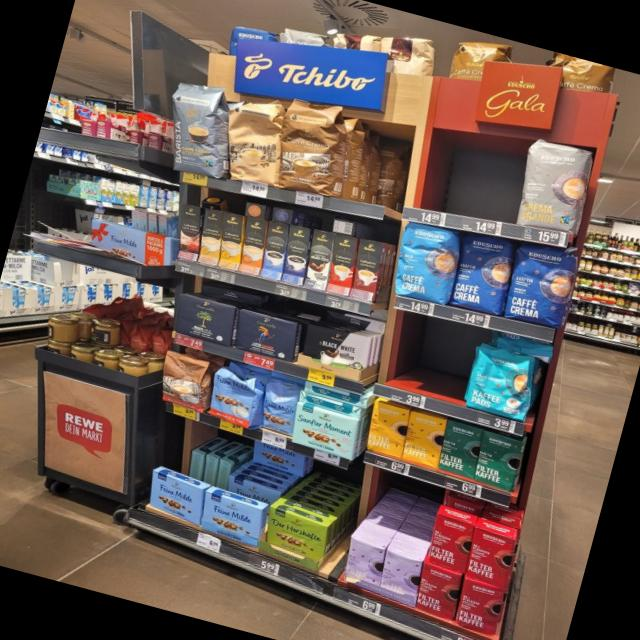BM Gemahlen: (174, 292, 237, 348)
BW Gemahlen: (299, 322, 370, 381)
Barista CC: (169, 79, 229, 179)
CC Mild: (227, 95, 282, 188)
CC Vollmundig: (159, 347, 213, 413)
CC Vollmundig 36 Pads: (276, 97, 345, 198)
Empty Shelf: (341, 107, 411, 208)
FM 36 Pads: (205, 362, 264, 431)
FM Bohne: (259, 376, 301, 437)
FM Gemahlen: (198, 489, 263, 547), (147, 469, 205, 528)
Herzhatfe Mundig: (265, 505, 327, 563)
LG Gemahlen: (233, 306, 298, 363)
SM Gemahlen: (291, 401, 360, 462)
Simo CC Colombia: (177, 204, 200, 262)
Simo CCMild bigpack: (218, 212, 243, 270)
Simo CCVollmundig bigpack: (238, 216, 267, 275)
Simo Decaff: (198, 208, 224, 266)
Simo Es Brazil: (326, 234, 358, 296)
Simo Es Caramel: (350, 238, 383, 301)
Simo Es Elegant: (304, 229, 334, 291)
Simo Es Kraft: (281, 225, 311, 286)
Simo Es Vanilla: (260, 220, 288, 280)
